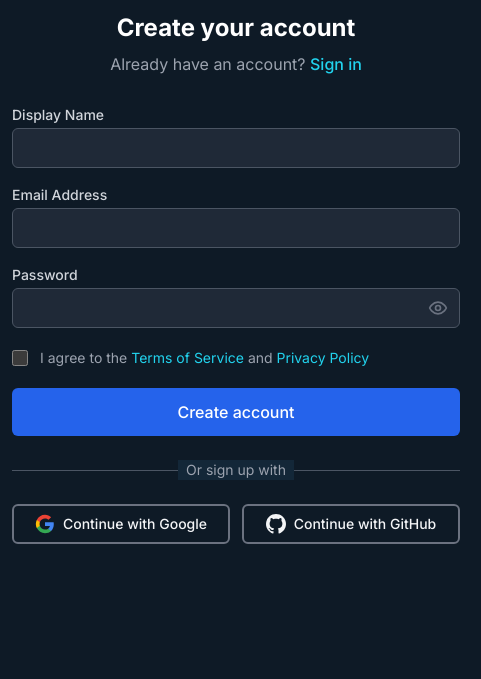
Test: RegisterPage › validates display name length
Type "A" into the field labelled "Display Name".
click(236, 148); type("A")  # box 12,128 -> 460,168
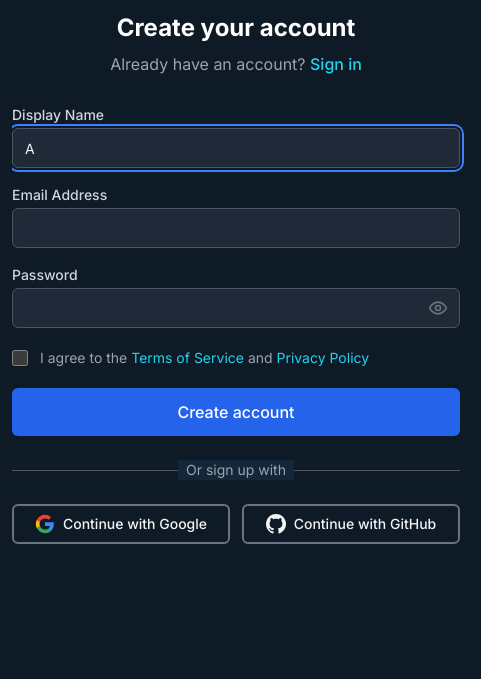
Click the button "Create account".
click(236, 412)  # box 12,388 -> 460,436
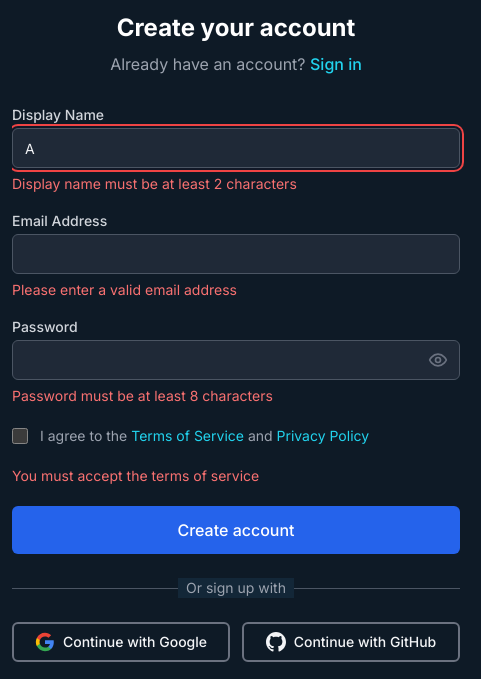
Expected: the text "Display name must be at least 2 characters" is shown, 12,175 -> 297,192
